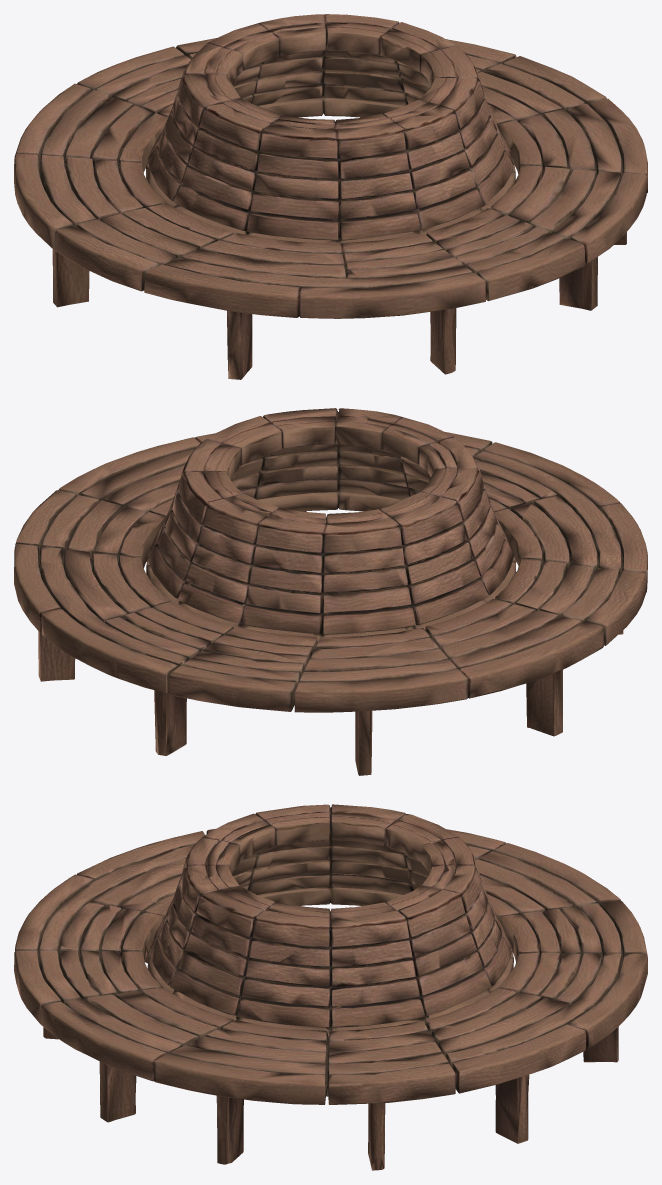
The model's file is treebench2.glb.
3 renders of one model, top to bottom at view 1: azimuth 30°, elevation 25°; view 2: azimuth 150°, elevation 25°; view 3: azimuth 270°, elevation 25°, orthographic.
Parts seen in each view (by area): view 1: tripo_node_1c33e409-3047-463b-b077-431a1b02eb39; view 2: tripo_node_1c33e409-3047-463b-b077-431a1b02eb39; view 3: tripo_node_1c33e409-3047-463b-b077-431a1b02eb39.
Part boxes in pixels (x1,y1,x2,y2): tripo_node_1c33e409-3047-463b-b077-431a1b02eb39: (14,14,647,379); tripo_node_1c33e409-3047-463b-b077-431a1b02eb39: (14,408,647,775); tripo_node_1c33e409-3047-463b-b077-431a1b02eb39: (14,804,647,1170).
Bounding box in the file's own units: 2.48 × 0.8 × 2.49.
1 material, 1 textured.
